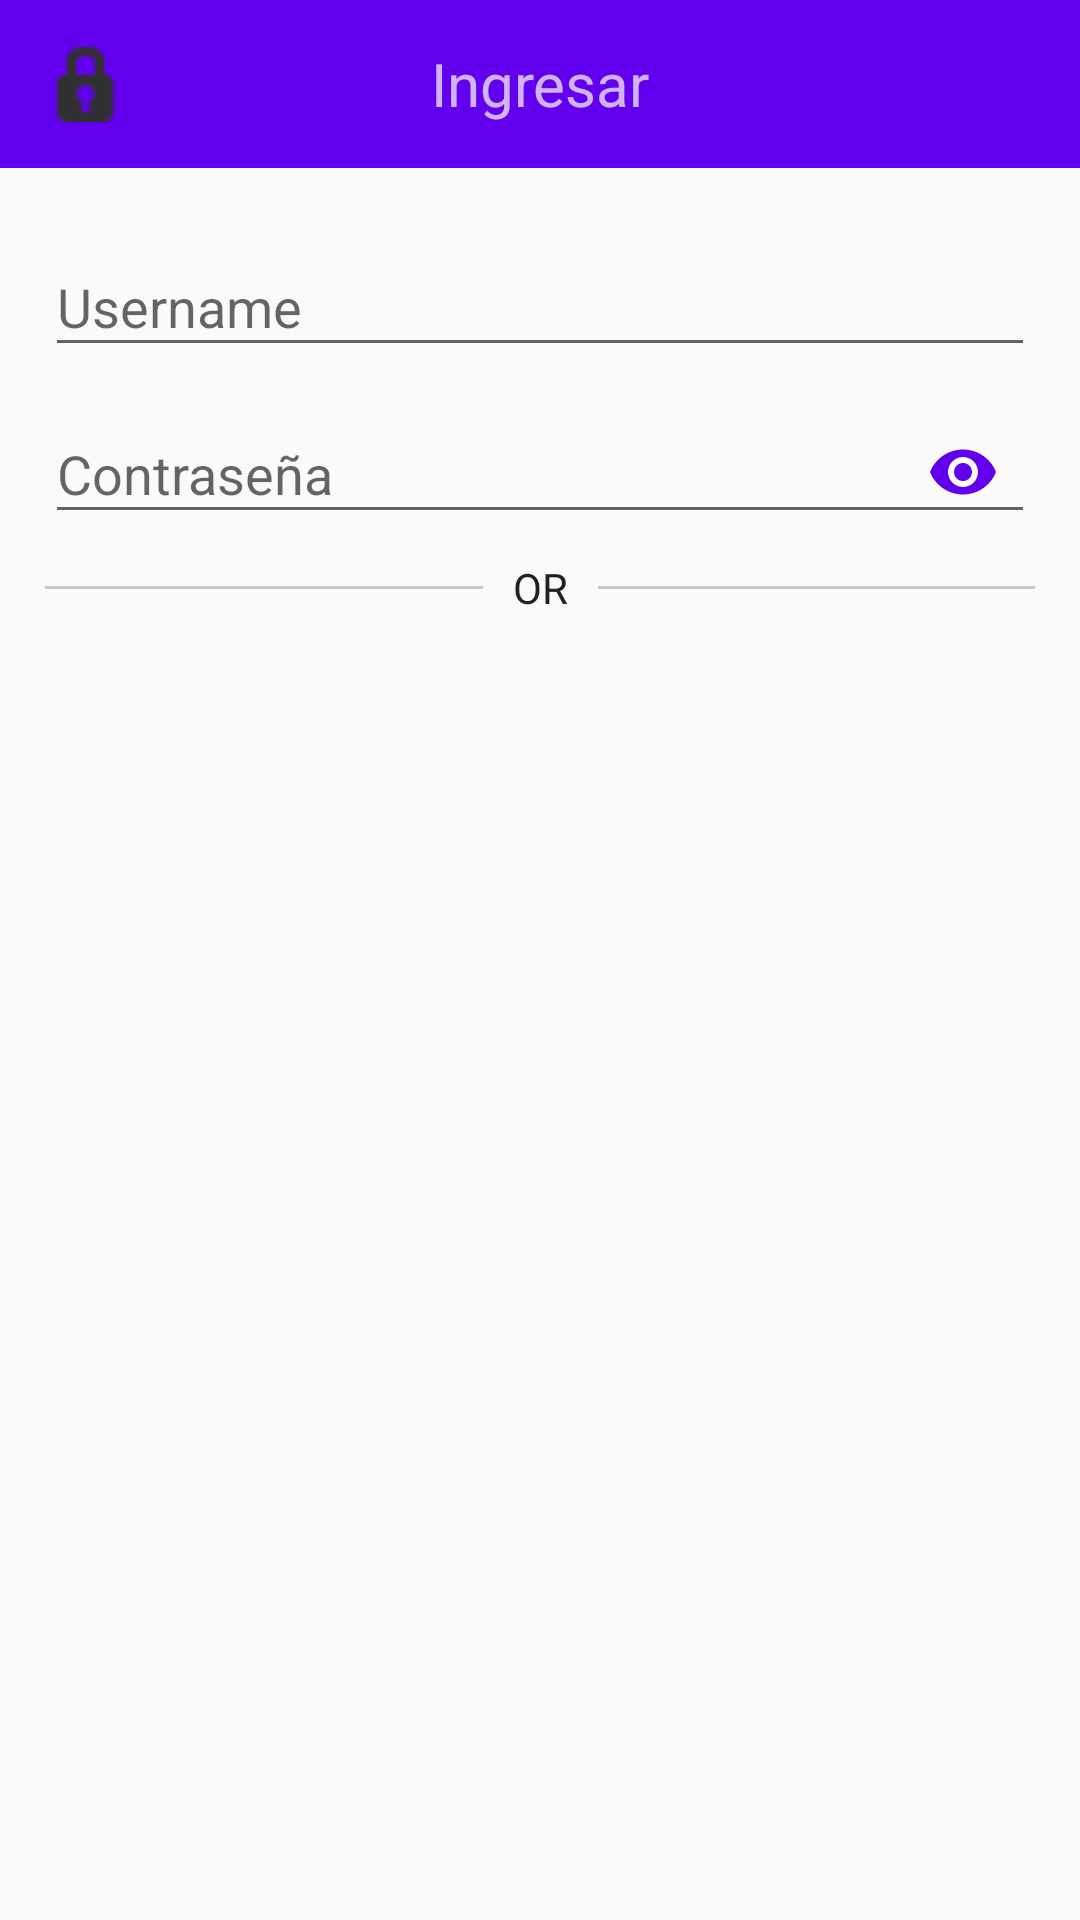

Icons on this 1080 x 1920 Android screen, each with the point to tap as point (x, y):
secure: point (85, 84)
